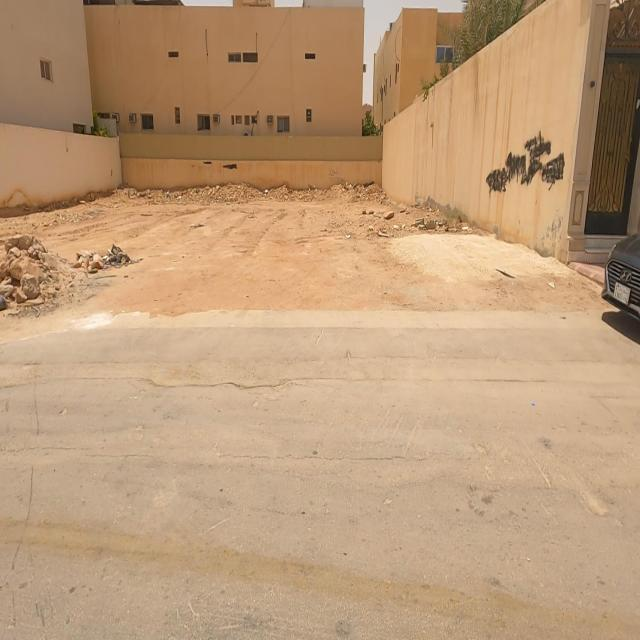Graffiti: (486, 131, 567, 202)
